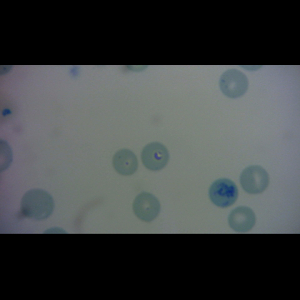aggregate reticulocyte: (207, 177, 239, 209)
erythrocyte: (19, 187, 55, 221), (139, 141, 171, 173), (238, 164, 271, 195), (131, 192, 162, 223), (227, 204, 257, 234), (111, 148, 140, 178)
punctate reticulocyte: (217, 67, 250, 100)
